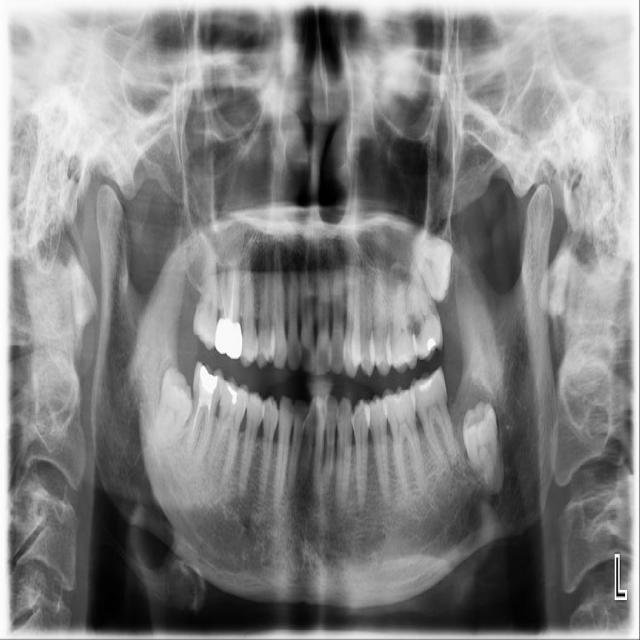Caries: (413, 322, 420, 339)
Crown: (215, 317, 242, 359)
Filling: (193, 358, 223, 414), (223, 384, 245, 405), (420, 377, 433, 392), (423, 338, 438, 351)
Root Canal Treatment: (197, 411, 211, 455), (189, 407, 199, 447), (231, 265, 238, 315), (223, 272, 226, 316)
impacted tooth: (460, 400, 503, 498), (400, 223, 453, 301), (147, 369, 192, 452)
